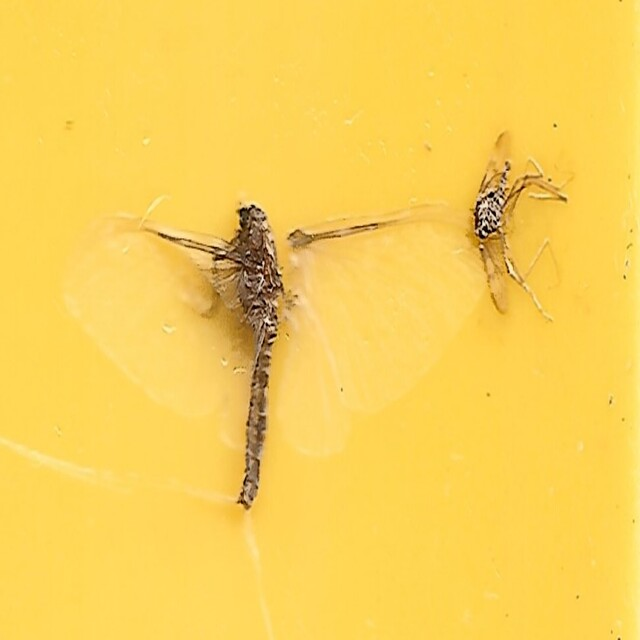Ephemeroptera: (66, 196, 476, 516)
Nematocera: (475, 124, 574, 320)
